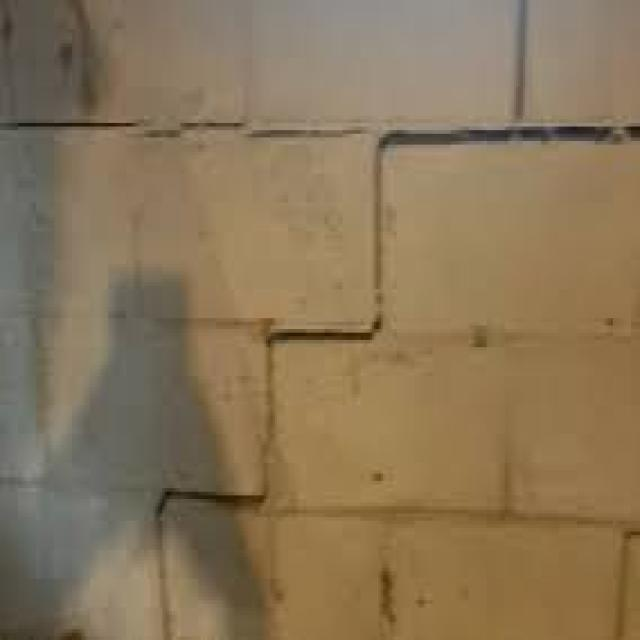Crack: (153, 119, 633, 636)
